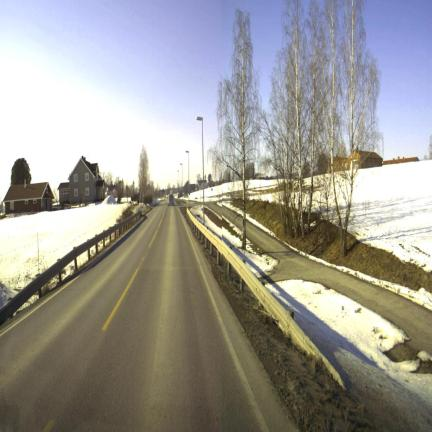Road: (0, 203, 295, 430)
